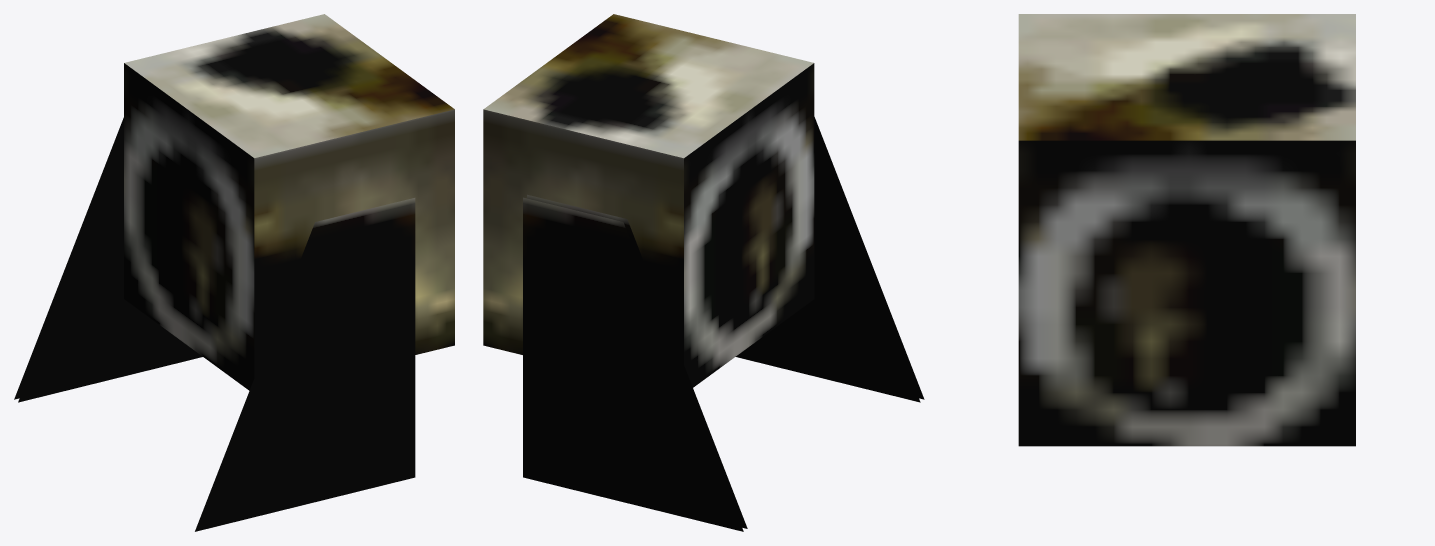
The model's file is USA - Ground Vehicles - Tomahawk - Damage State 2 - avtomahawk_d2.glb.
3 views of the same model, side by side, from view 1: azimuth 30°, elevation 25°; view 2: azimuth 150°, elevation 25°; view 3: azimuth 270°, elevation 25° (orthographic). The views are drawn at different scales.
Parts seen in each view (by area): view 1: AVTOMAHAWK_D2; view 2: AVTOMAHAWK_D2; view 3: AVTOMAHAWK_D2.
Part boxes in pixels (x1,y1,x2,y2): AVTOMAHAWK_D2: (14,14,454,531); AVTOMAHAWK_D2: (483,14,924,531); AVTOMAHAWK_D2: (1018,14,1355,446).
Size of the model in its own units: 2.96 by 3.32 by 3.25.
Materials: 1 (1 with a texture image).
